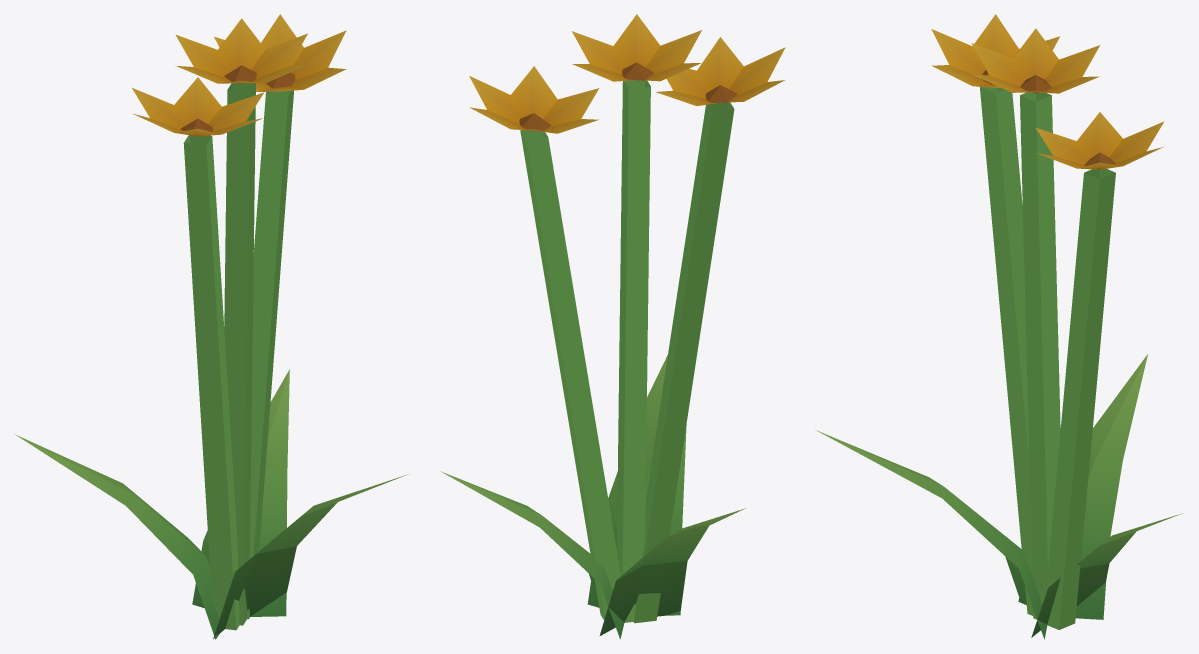
The model's file is env_flowers_gold.glb.
The picture shows the model from 3 angles, left to right: view 1: azimuth 30°, elevation 25°; view 2: azimuth 150°, elevation 25°; view 3: azimuth 270°, elevation 25°; orthographic projection. The views are drawn at different scales.
Parts seen in each view (by area): view 1: env_flowers_gold; view 2: env_flowers_gold; view 3: env_flowers_gold.
Boxes of the visible parts, x1=… form: env_flowers_gold: x1=15, y1=14, x2=408, y2=639; env_flowers_gold: x1=440, y1=14, x2=785, y2=639; env_flowers_gold: x1=817, y1=14, x2=1182, y2=639.
Bounding box in the file's own units: 0.4305 × 0.7704 × 0.4616.
